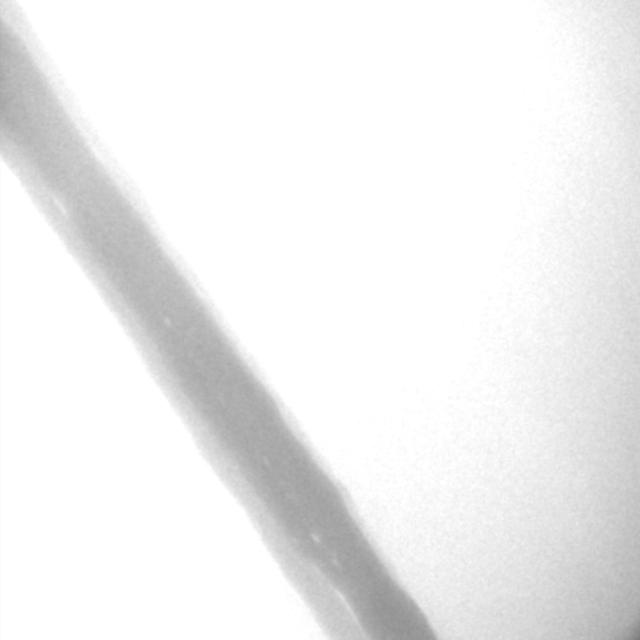air hole: (309, 530, 320, 546)
